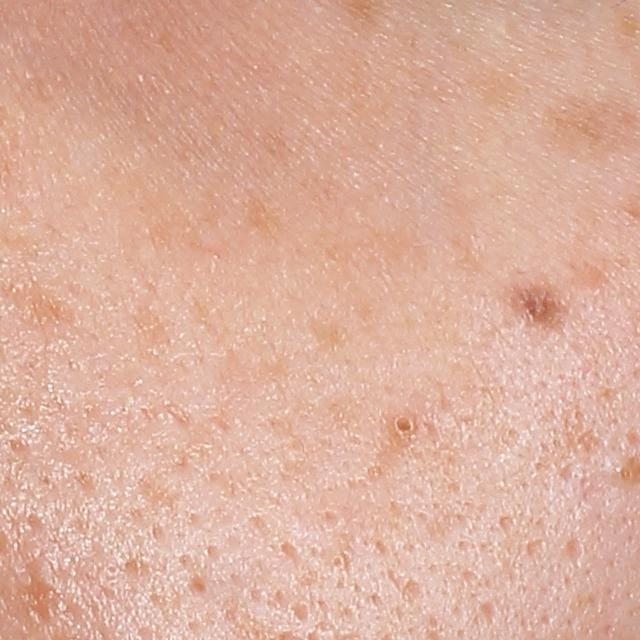atrophic_scar: (24, 555, 55, 632), (562, 529, 591, 570)
comedo: (379, 409, 416, 439)
